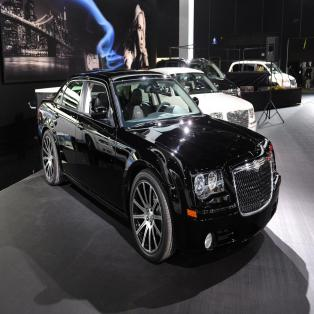Auto: (23, 64, 298, 283)
